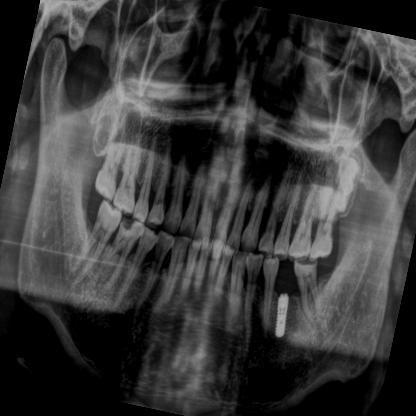ITI: (267, 284, 296, 342)
